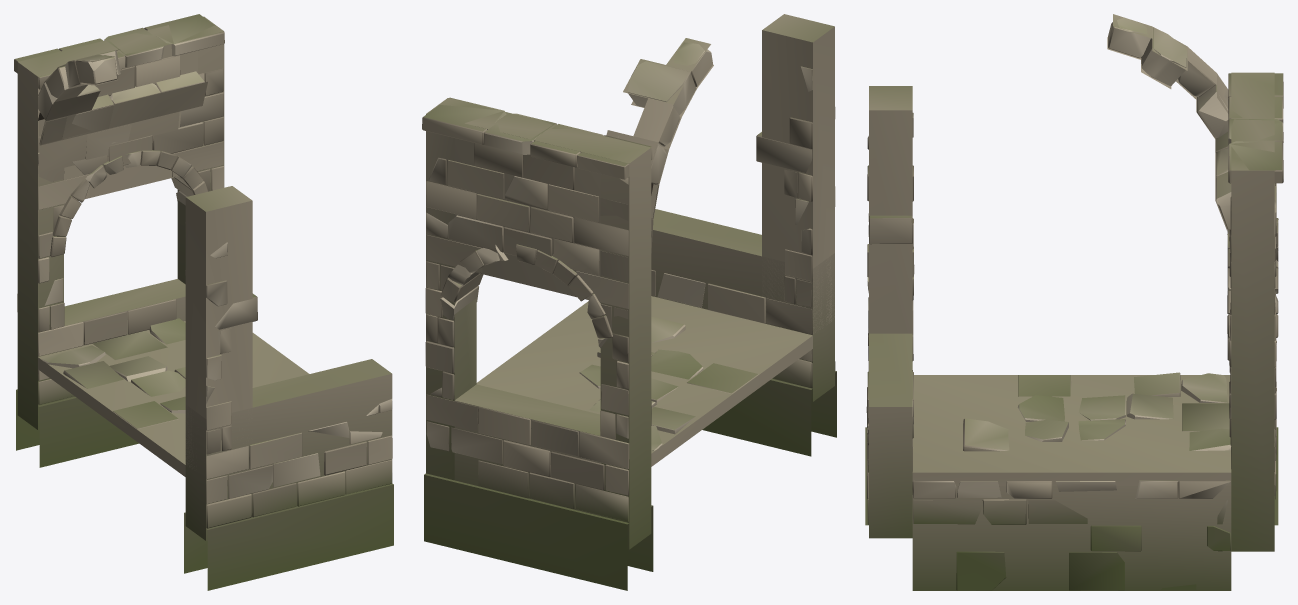
The model's file is baths_hall_end.glb.
The picture shows the model from 3 angles, left to right: view 1: azimuth 30°, elevation 25°; view 2: azimuth 150°, elevation 25°; view 3: azimuth 270°, elevation 25°; orthographic projection. The views are drawn at different scales.
Visible parts, largest first — view 1: baths_hall_end, baths_hall_end_far; view 2: baths_hall_end, baths_hall_end_far; view 3: baths_hall_end_far, baths_hall_end.
Boxes of the visible parts, x1,y1,x2,y2 form: baths_hall_end: (14,14,393,590); baths_hall_end_far: (17,16,392,540); baths_hall_end: (422,42,836,590); baths_hall_end_far: (426,14,834,549); baths_hall_end_far: (869,14,1274,590); baths_hall_end: (865,17,1283,590).
Size of the model in its own units: 16.11 by 36.48 by 28.86.
